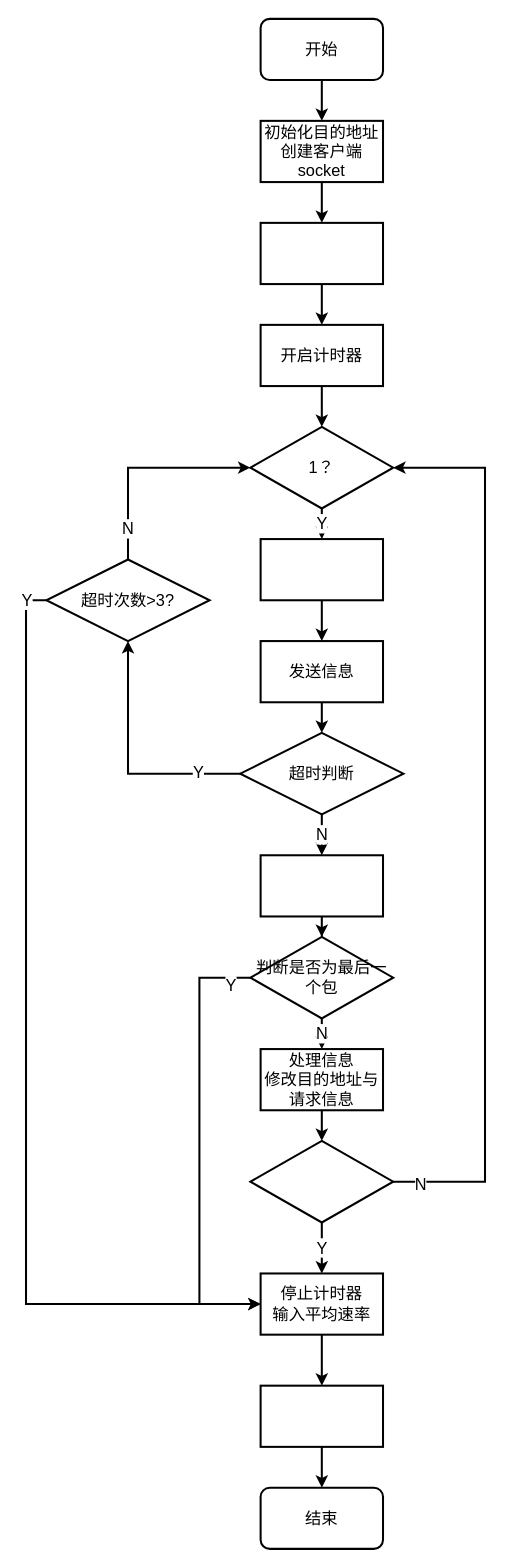
Image size: 511x1567. Some labels were removed from this diagram. Each missing label, with the centre of its shape:
关闭socket与文件: [321,1415]
打开文件 构建请求信息 初始化超时参数: [321,253]
接受信息: [321,885]
每1000个包输出一次瞬时速率: [321,569]
遇到错误?: [321,1181]
